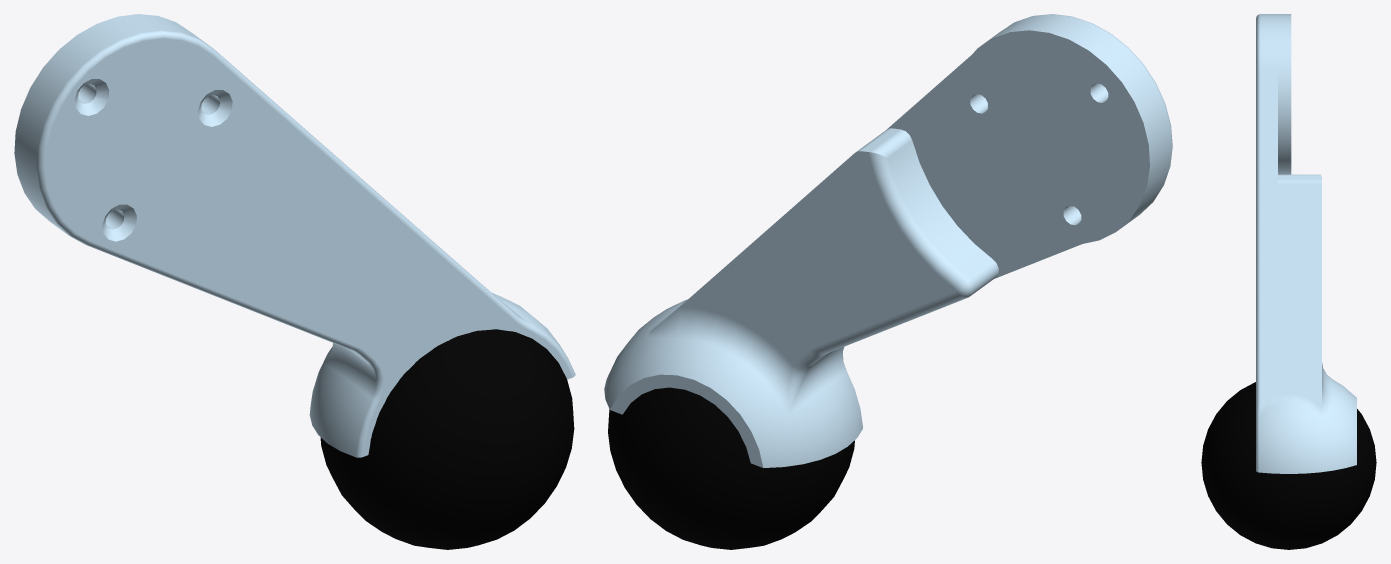
Rendered from pupperv3_export.001.dae.
The picture shows the model from 3 angles, left to right: view 1: azimuth 30°, elevation 25°; view 2: azimuth 150°, elevation 25°; view 3: azimuth 270°, elevation 25°; orthographic projection. The views are drawn at different scales.
Visible parts, largest first — view 1: pupperv3_export.001; view 2: pupperv3_export.001; view 3: pupperv3_export.001.
Part boxes in pixels (left/top/right/bottom): pupperv3_export.001: left=14, top=14, right=575, bottom=549; pupperv3_export.001: left=604, top=14, right=1172, bottom=549; pupperv3_export.001: left=1201, top=14, right=1376, bottom=549.
Size of the model in its own units: 0.0982 by 0.04 by 0.1035.
